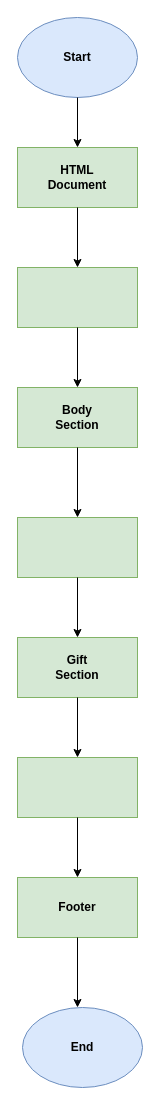
The diagram is 160 pixels wide and 1105 high, and some of its shapes have lost their labels. Here are the shapes that lost their labels. From the top down, the box of each, then its label:
(16, 266, 138, 328): Head Section
(16, 516, 138, 578): Header
(16, 756, 138, 818): Products Section
